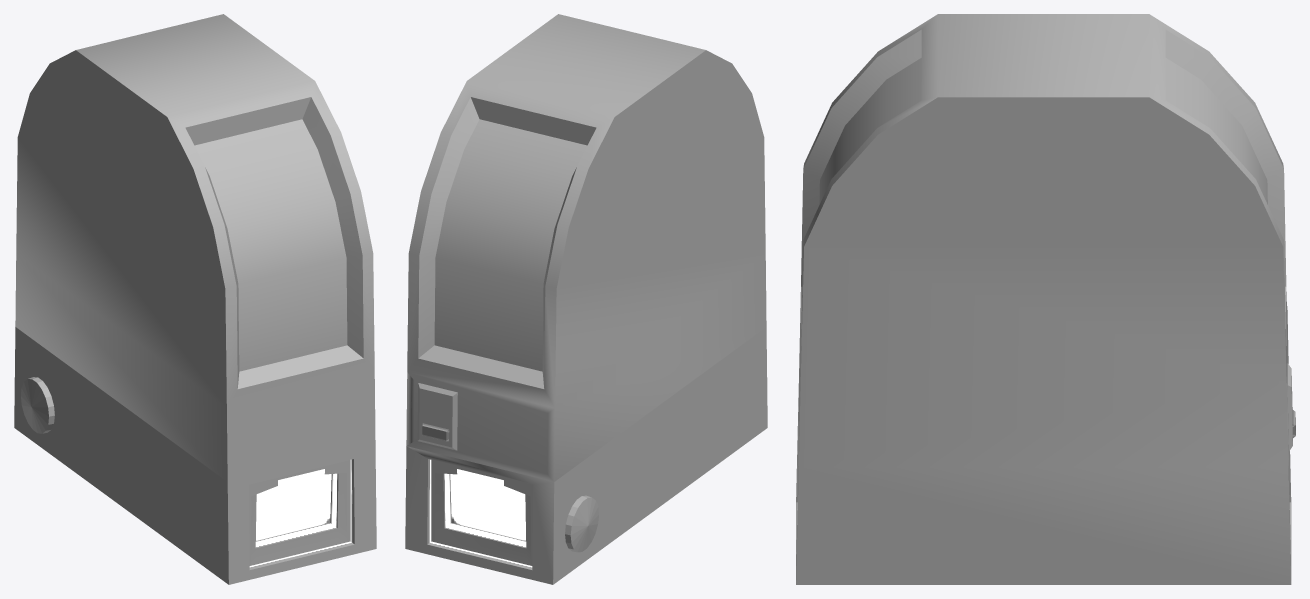
The model's file is KF_SM_OPcenter4.fbx.
3 views of the same model, side by side, from view 1: azimuth 30°, elevation 25°; view 2: azimuth 150°, elevation 25°; view 3: azimuth 270°, elevation 25° (orthographic). The views are drawn at different scales.
Visible parts, largest first — view 1: KF_SM_OPcenter4; view 2: KF_SM_OPcenter4; view 3: KF_SM_OPcenter4.
Part boxes in pixels (x1,y1,x2,y2): KF_SM_OPcenter4: (14,14,376,584); KF_SM_OPcenter4: (405,14,767,584); KF_SM_OPcenter4: (796,14,1295,584).
Bounding box in the file's own units: 290 × 747 × 694.
